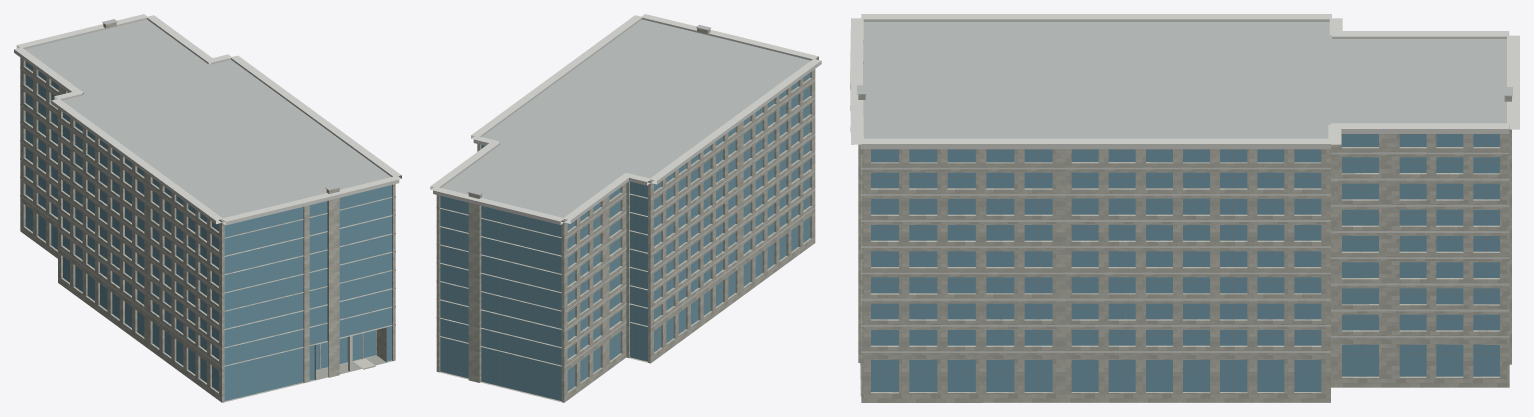
3 renders of one model, left to right at view 1: azimuth 30°, elevation 25°; view 2: azimuth 150°, elevation 25°; view 3: azimuth 270°, elevation 25°, orthographic. The views are drawn at different scales.
Parts seen in each view (by area): view 1: b110__glass, unist-batch-b110__base, b110__wall, b110__trim, b110__frame; view 2: b110__glass, b110__wall, unist-batch-b110__base, b110__trim, b110__frame; view 3: b110__wall, b110__glass, unist-batch-b110__base, b110__trim, b110__frame.
Boxes of the visible parts, bbox=[...] form: b110__glass: bbox=[25, 61, 391, 400]; unist-batch-b110__base: bbox=[25, 19, 390, 402]; b110__wall: bbox=[20, 22, 395, 402]; b110__trim: bbox=[14, 14, 401, 367]; b110__frame: bbox=[25, 74, 384, 399]; b110__glass: bbox=[440, 73, 810, 400]; b110__wall: bbox=[436, 28, 815, 402]; unist-batch-b110__base: bbox=[441, 19, 810, 401]; b110__trim: bbox=[430, 14, 821, 367]; b110__frame: bbox=[447, 75, 810, 399]; b110__wall: bbox=[858, 94, 1511, 402]; b110__glass: bbox=[871, 134, 1499, 391]; unist-batch-b110__base: bbox=[857, 22, 1512, 402]; b110__trim: bbox=[850, 14, 1519, 352]; b110__frame: bbox=[871, 134, 1499, 391].
Size of the model in its own units: 38.34 by 37.25 by 83.41.
6 materials, 1 textured.
